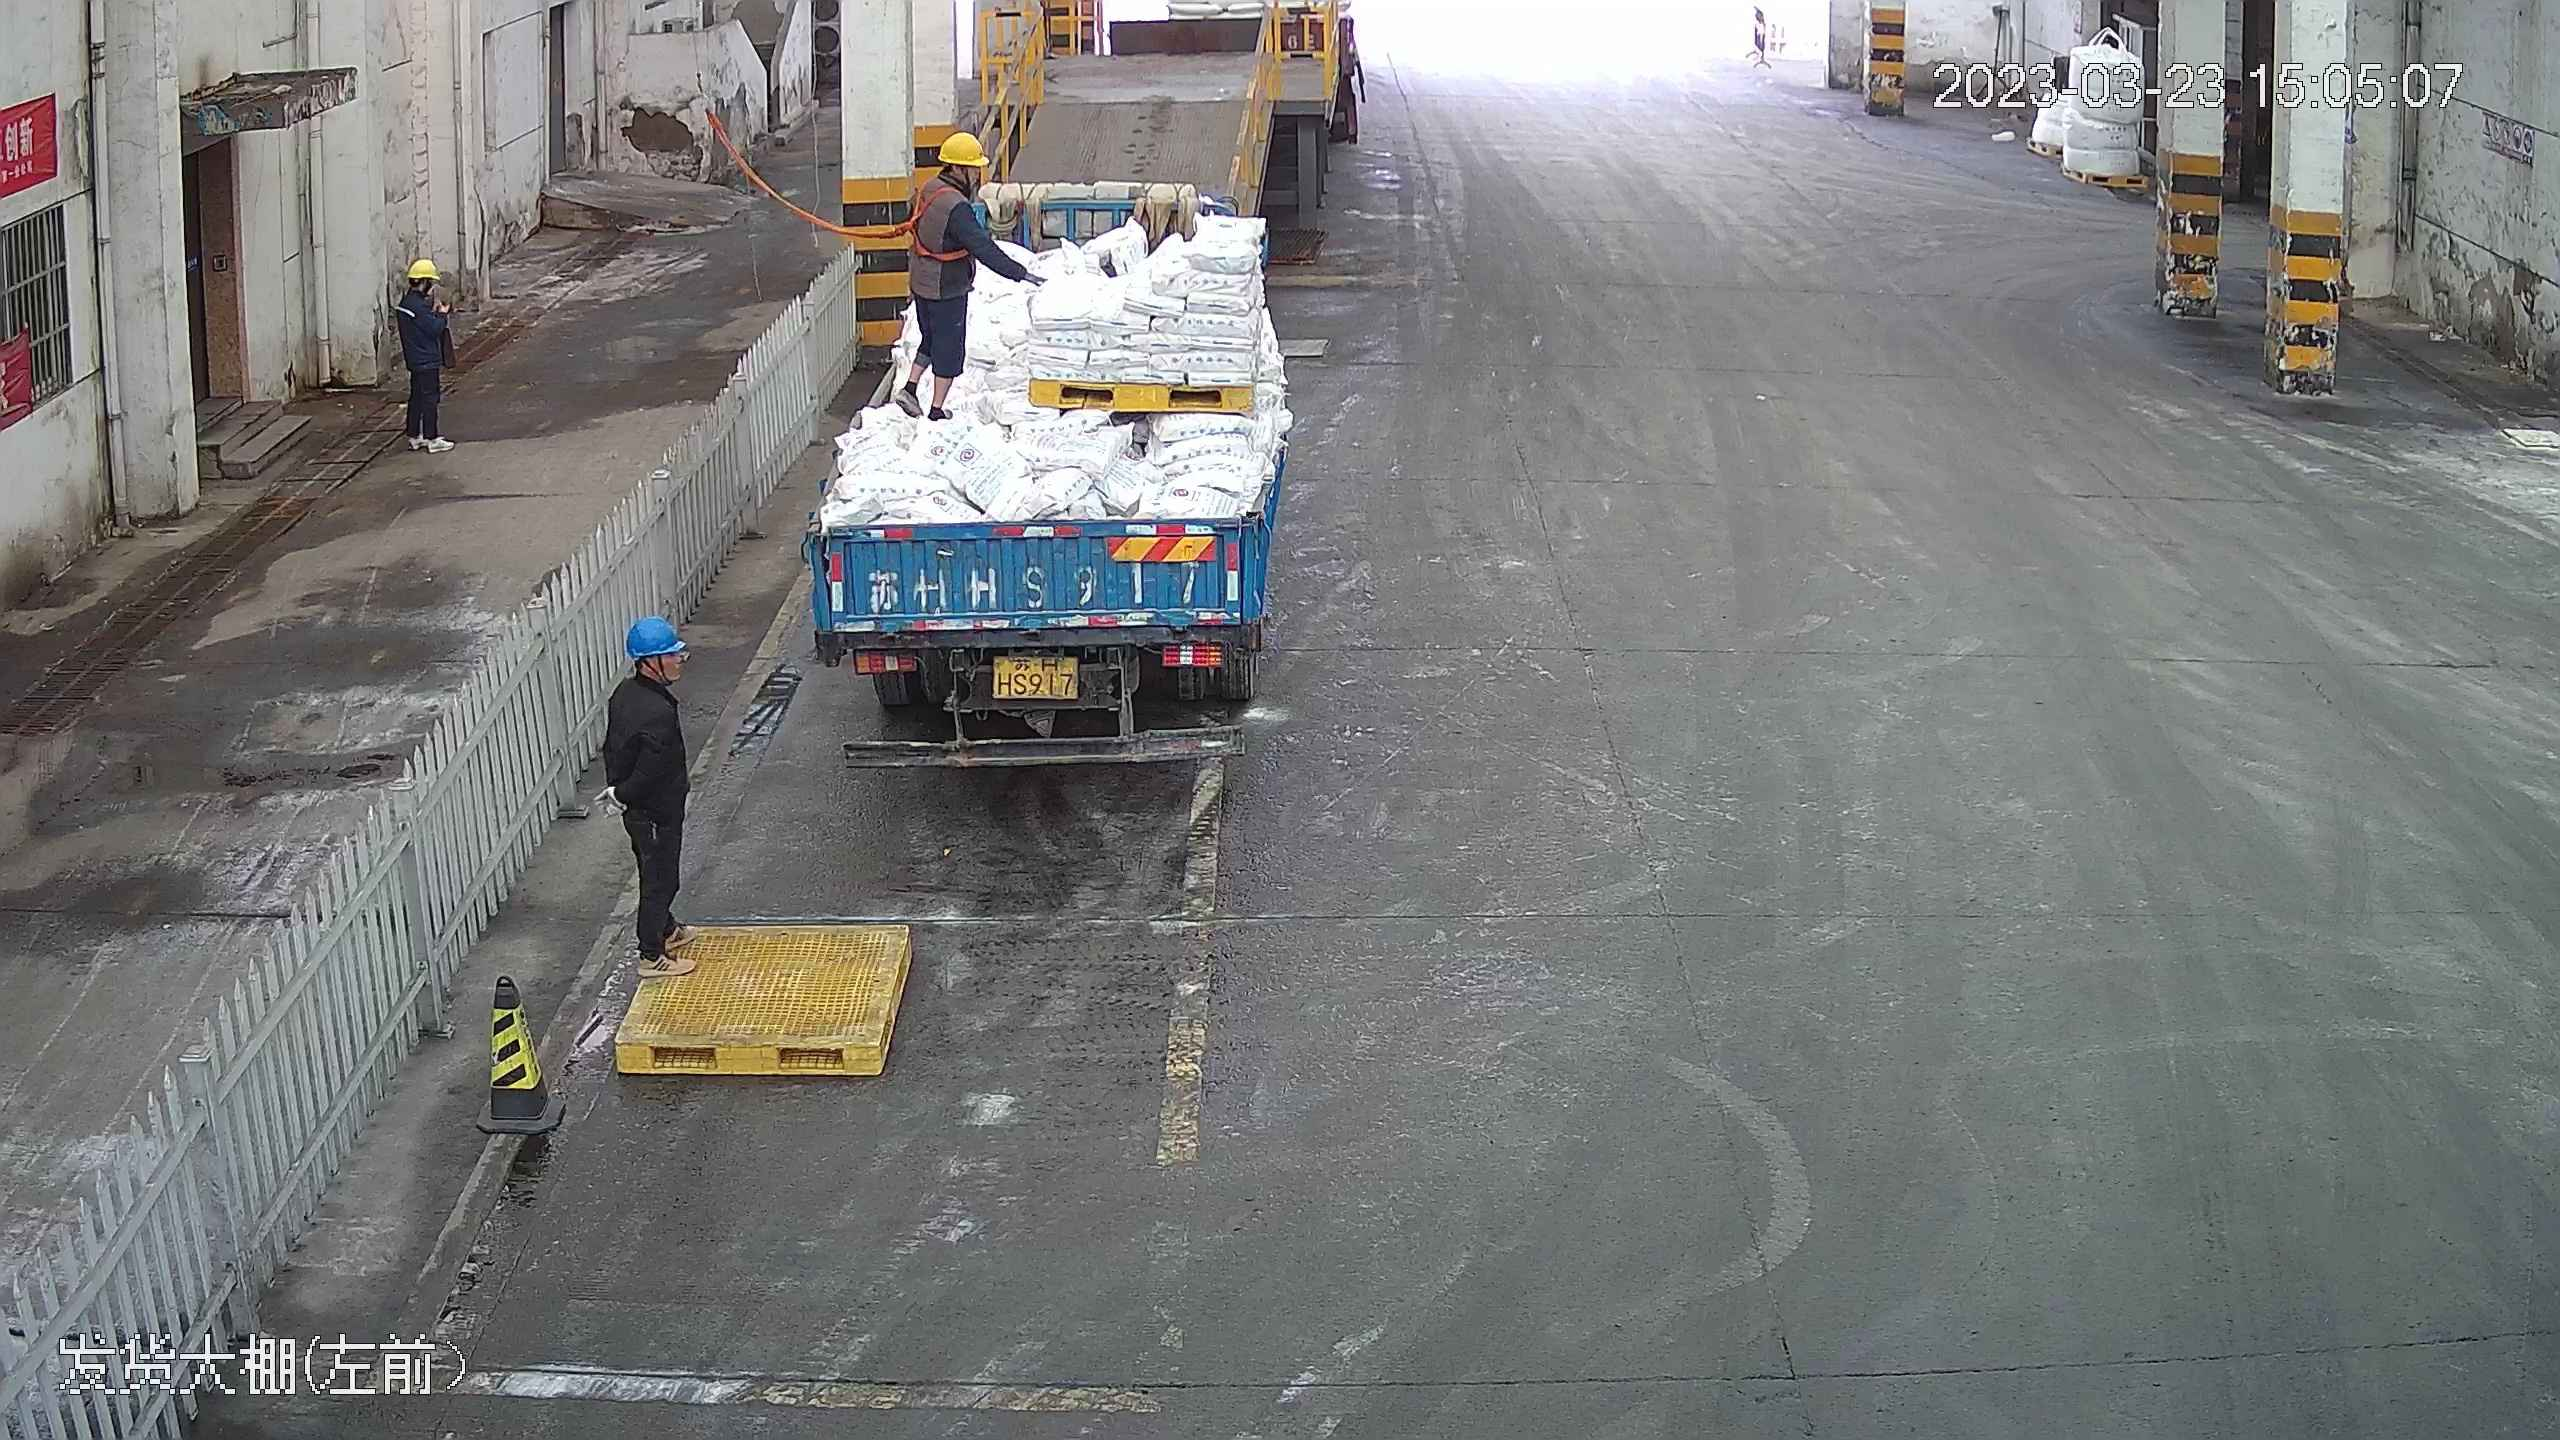belt: (896, 186, 972, 264)
head: (604, 612, 690, 730), (912, 131, 996, 225), (391, 257, 448, 321)
helmet: (623, 612, 688, 661), (936, 133, 988, 168), (403, 256, 437, 282)
people: (891, 129, 1044, 416), (599, 611, 698, 974), (389, 255, 459, 444)
truck: (804, 29, 1289, 769)
